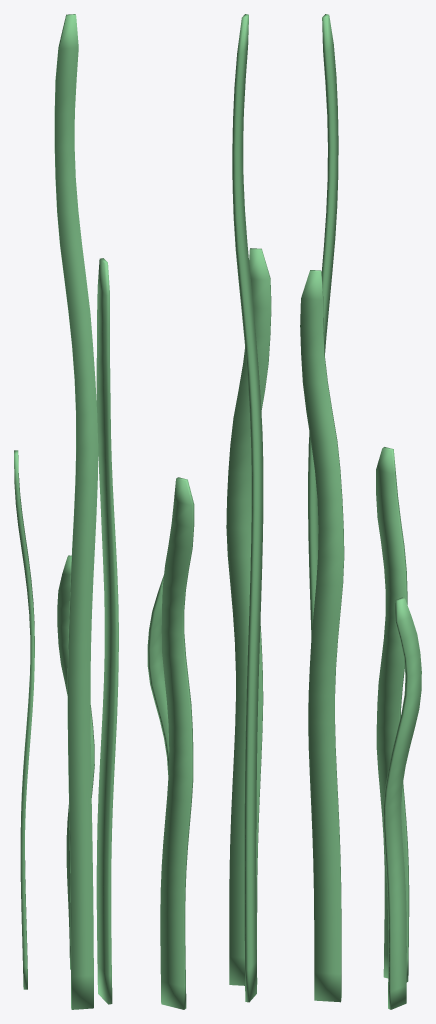
File: Large1.fbx
3 renders of one model, left to right at view 1: azimuth 90°, elevation 25°; view 2: azimuth 150°, elevation 25°; view 3: azimuth 330°, elevation 25°, orthographic. The views are drawn at different scales.
Visible parts, largest first — view 1: Large1_EXPORT; view 2: Large1_EXPORT; view 3: Large1_EXPORT.
Part boxes in pixels (<box>): Large1_EXPORT: <box>14,14,118,1009</box>; Large1_EXPORT: <box>147,14,271,1009</box>; Large1_EXPORT: <box>300,14,421,1009</box>.
Size of the model in its own units: 1.35 by 12.59 by 1.21.
